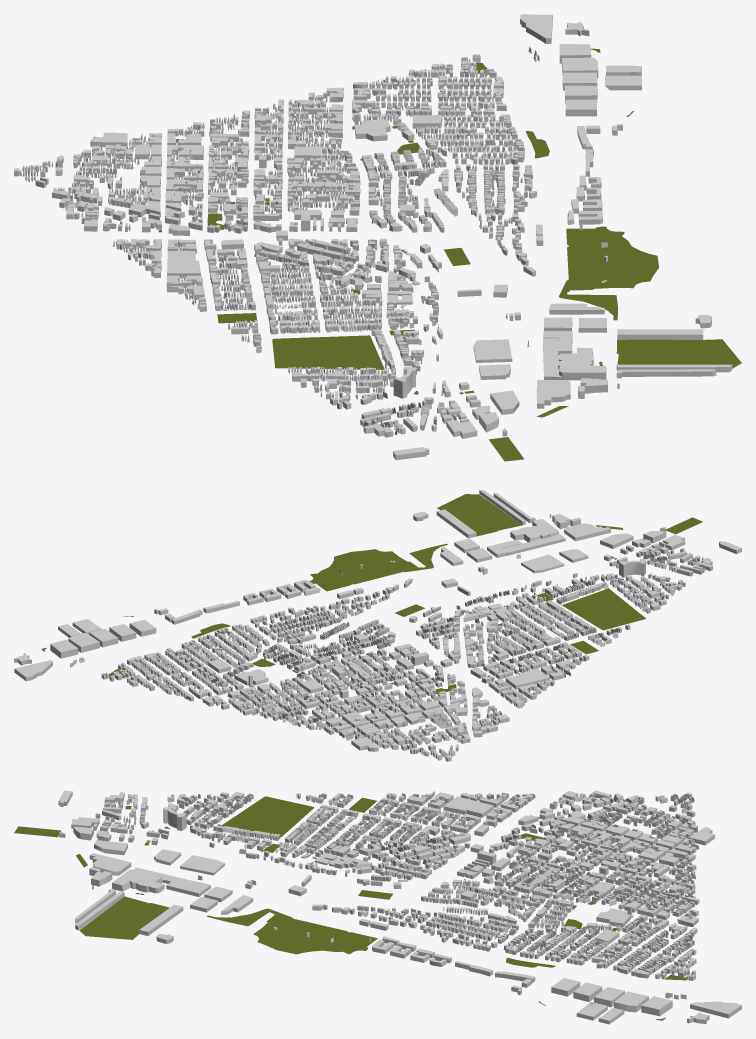
Rendered from area11_lod0-transformed.glb.
3 views of the same model, one above another, from view 1: azimuth 30°, elevation 25°; view 2: azimuth 150°, elevation 25°; view 3: azimuth 270°, elevation 25° (orthographic). The views are drawn at different scales.
Parts seen in each view (by area): view 1: Areas:building.002, Areas:leisure.001; view 2: Areas:building.002, Areas:leisure.001; view 3: Areas:building.002, Areas:leisure.001.
Boxes of the visible parts, box(x1,y1,x2,y2) form: Areas:building.002: box(14, 14, 732, 460); Areas:leisure.001: box(158, 48, 741, 461); Areas:building.002: box(14, 490, 741, 761); Areas:leisure.001: box(41, 494, 702, 729); Areas:building.002: box(58, 790, 741, 1024); Areas:leisure.001: box(14, 796, 687, 1020).
Bounding box in the file's own units: 2383 × 66.12 × 3188.
